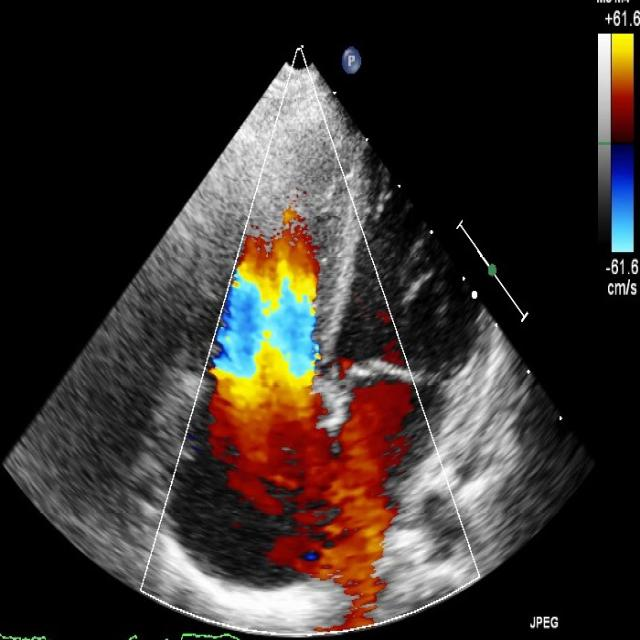ASDType2: (207, 358, 418, 544)
